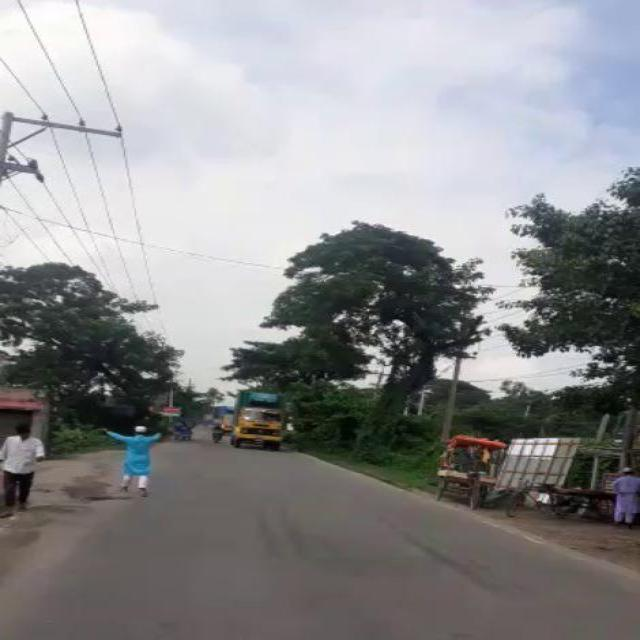motorcycle: (169, 418, 192, 440), (206, 421, 219, 439)
truck: (228, 389, 284, 446), (211, 405, 230, 430)
